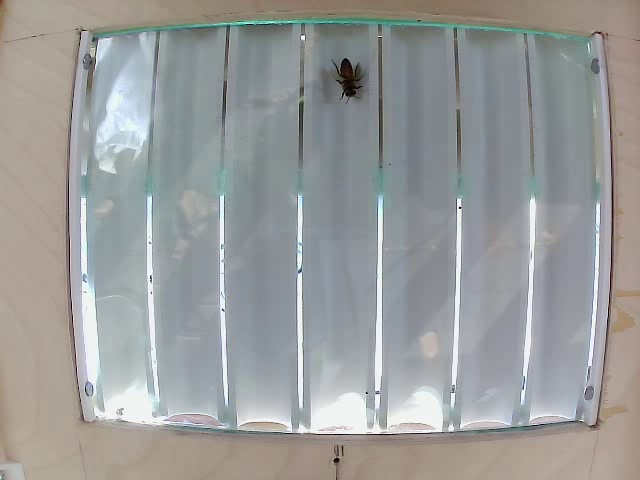bee: (328, 50, 365, 107)
